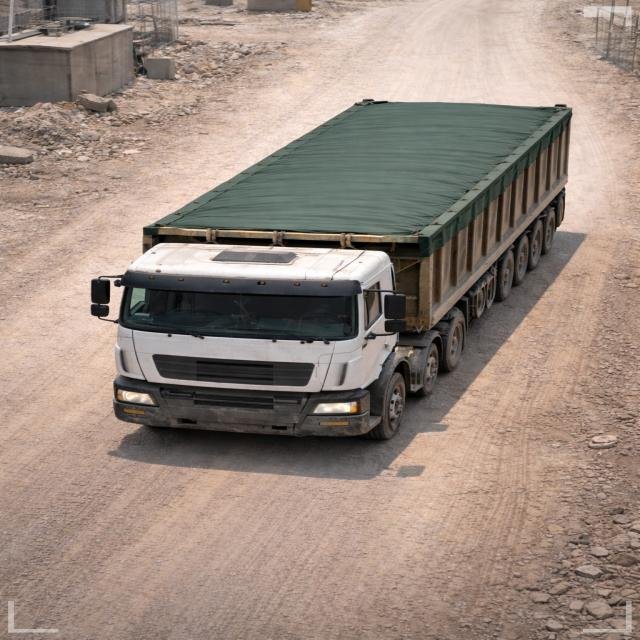Box: (149, 98, 573, 238)
Truck: (84, 76, 591, 438)
